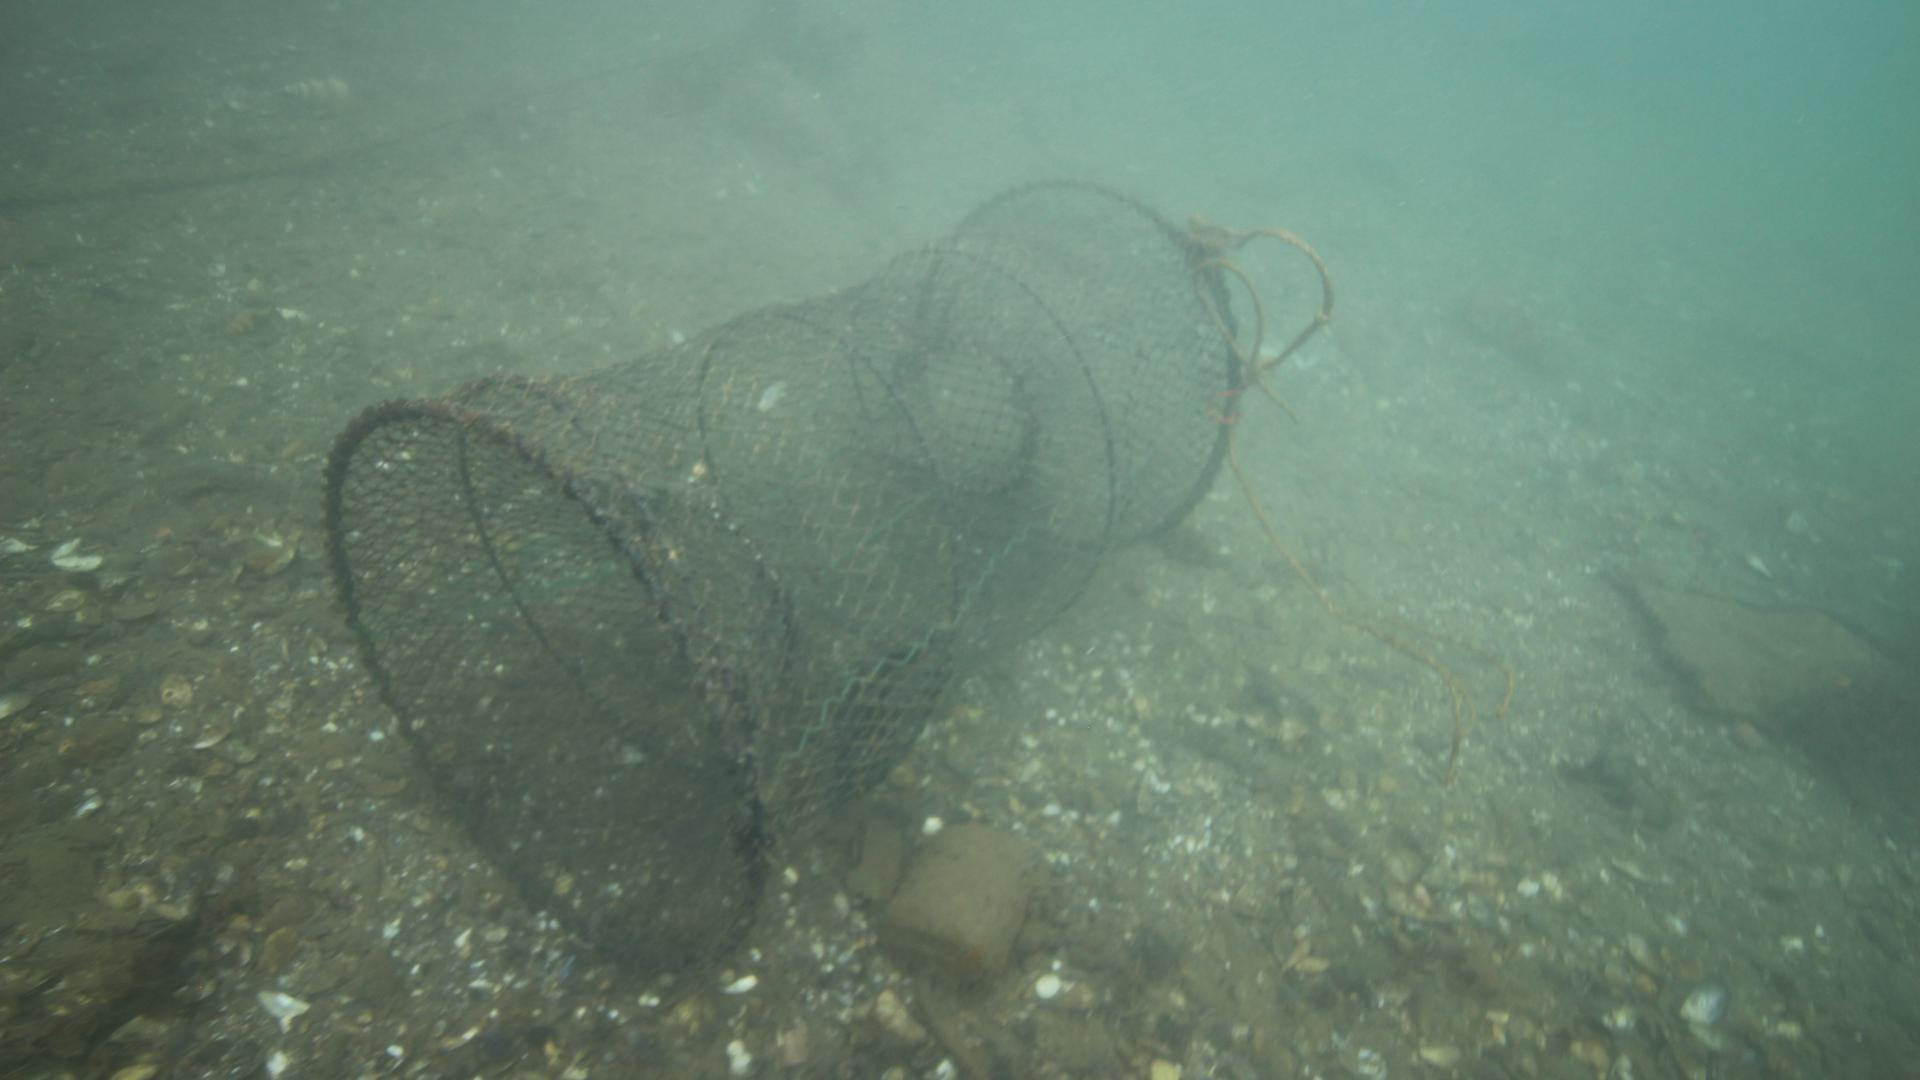bundle of ropes: (1187, 222, 1333, 372)
spring fish trap: (319, 177, 1244, 986)
